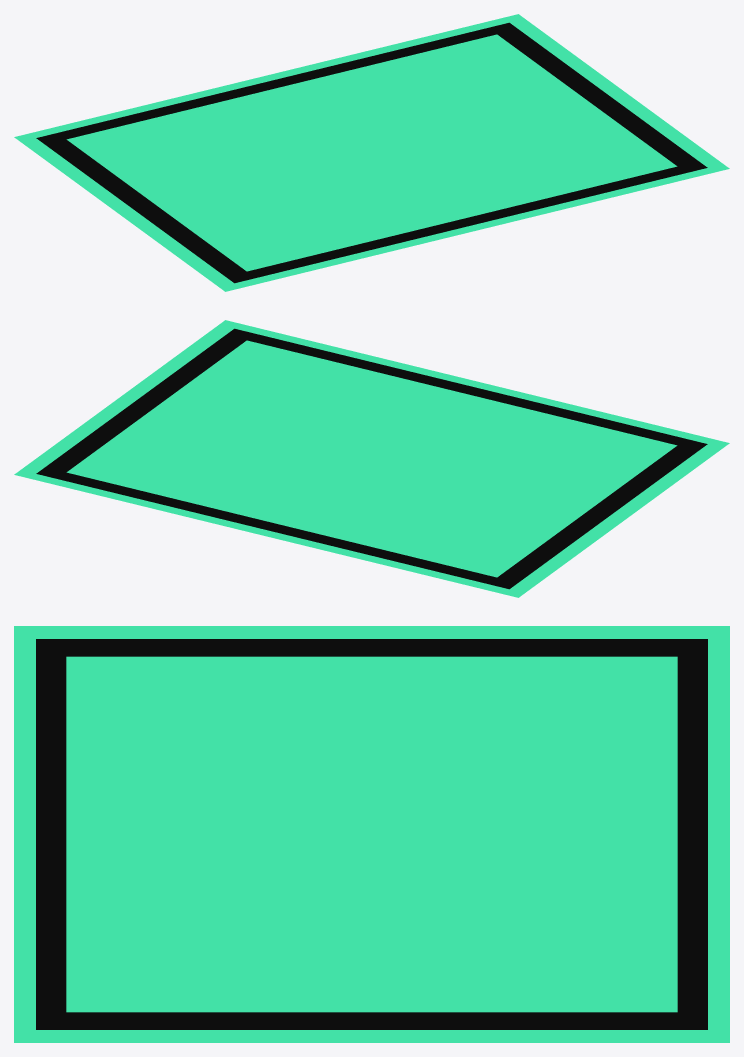
Rendered from board-placeholders.gltf.
3 renders of one model, top to bottom at view 1: azimuth 30°, elevation 25°; view 2: azimuth 150°, elevation 25°; view 3: azimuth 270°, elevation 25°, orthographic. The views are drawn at different scales.
Visible parts, largest first — view 1: board-placeholder; view 2: board-placeholder; view 3: board-placeholder.
Part boxes in pixels (x1,y1,x2,y2): board-placeholder: (14, 14, 729, 291); board-placeholder: (14, 320, 729, 597); board-placeholder: (14, 626, 729, 1042).
Size of the model in its own units: 3.1 by 0 by 2.25.
